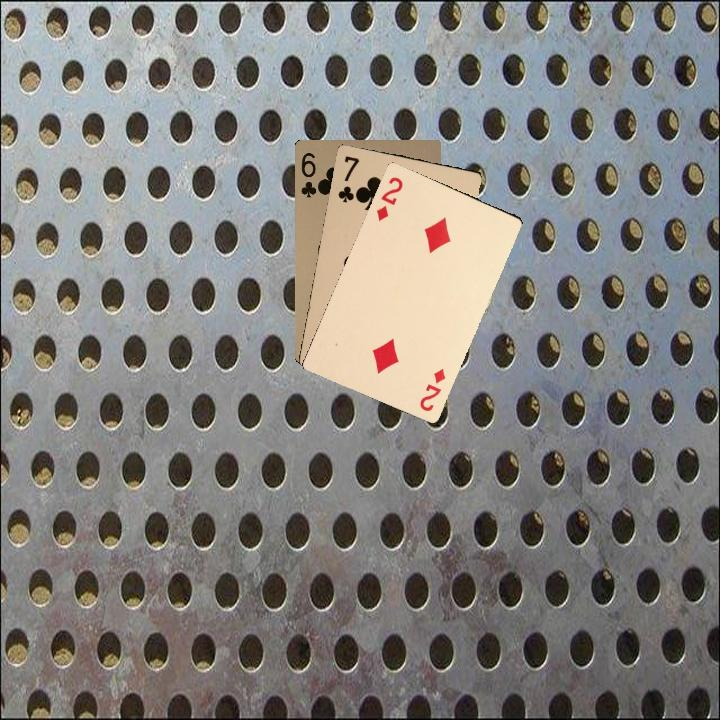2d: (372, 173, 405, 223), (415, 364, 448, 414)
6c: (297, 149, 323, 200)
7c: (334, 152, 362, 205)
